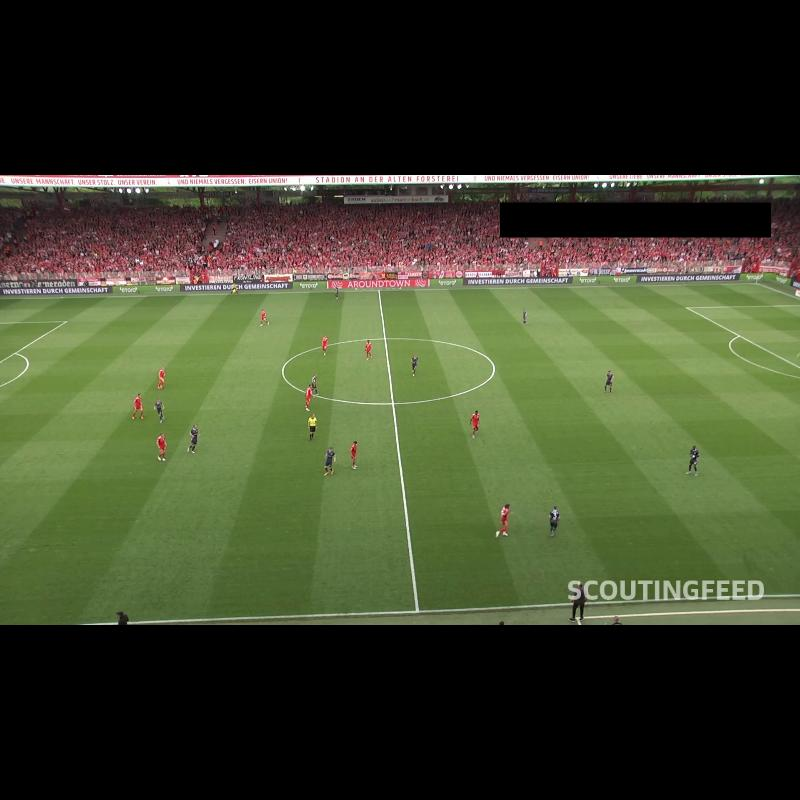cross_recipient_zone: (687, 304, 800, 368), (0, 322, 66, 362)
crossing_player_zone: (569, 283, 800, 308), (0, 295, 187, 322)
pitch: (0, 283, 800, 625)
